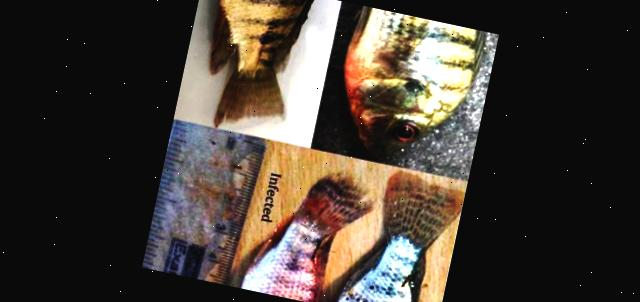Tilapia Lake Virus -TiLV-: (342, 6, 483, 155), (240, 179, 370, 302), (210, 0, 312, 125)
